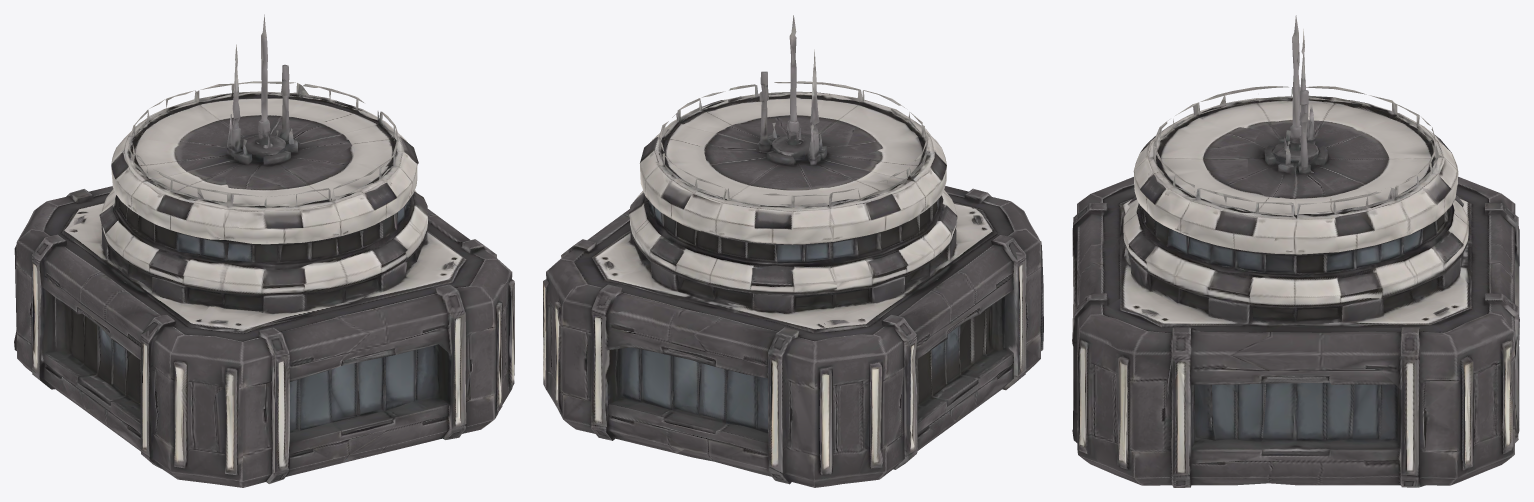
File: hubDrum.glb
3 views of the same model, side by side, from view 1: azimuth 30°, elevation 25°; view 2: azimuth 150°, elevation 25°; view 3: azimuth 270°, elevation 25° (orthographic). The views are drawn at different scales.
Parts seen in each view (by area): view 1: hubDrum; view 2: hubDrum; view 3: hubDrum.
Part boxes in pixels (bbox=[...]): hubDrum: bbox=[14, 14, 514, 487]; hubDrum: bbox=[543, 15, 1043, 487]; hubDrum: bbox=[1072, 15, 1519, 487].
Bounding box in the file's own units: 26 × 26.59 × 27.58.
Materials: 1 (1 with a texture image).
